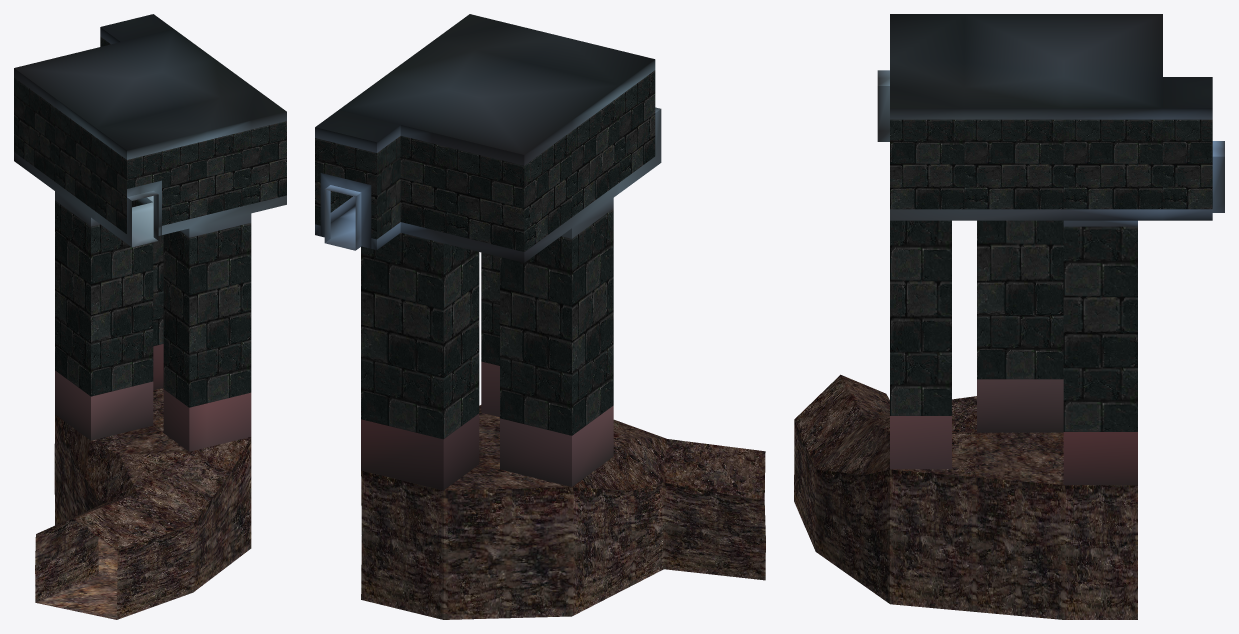
3 views of the same model, side by side, from view 1: azimuth 30°, elevation 25°; view 2: azimuth 150°, elevation 25°; view 3: azimuth 270°, elevation 25° (orthographic). The views are drawn at different scales.
Visible parts, largest first — view 1: node-00CDDC42, node-02A090F1, node-03D8F3A9, node-02383926, node-0122B104, node-03A51879, node-033CBE55; view 2: node-00CDDC42, node-02383926, node-02A090F1, node-0122B104, node-03D8F3A9, node-03A51879, node-033CBE55; view 3: node-00CDDC42, node-02383926, node-02A090F1, node-0122B104, node-03D8F3A9, node-03A51879.
Boxes of the visible parts, box(x1,y1,x2,y2) form: node-00CDDC42: box(14, 36, 286, 407); node-02A090F1: box(14, 14, 286, 150); node-03D8F3A9: box(36, 388, 250, 619); node-02383926: box(35, 415, 251, 619); node-0122B104: box(14, 27, 286, 451); node-03A51879: box(127, 180, 161, 247); node-033CBE55: box(132, 196, 153, 242); node-00CDDC42: box(315, 70, 655, 439); node-02383926: box(361, 470, 765, 619); node-02A090F1: box(315, 14, 654, 154); node-0122B104: box(315, 59, 655, 490); node-03D8F3A9: box(444, 405, 765, 500); node-03A51879: box(320, 107, 661, 250); node-033CBE55: box(330, 205, 355, 244); node-00CDDC42: box(890, 119, 1212, 431); node-02383926: box(794, 420, 1137, 619); node-02A090F1: box(890, 14, 1212, 108); node-0122B104: box(890, 108, 1212, 484); node-03D8F3A9: box(794, 374, 1063, 484); node-03A51879: box(877, 70, 1224, 212).
Bounding box in the file's own units: 571 × 920 × 695.
